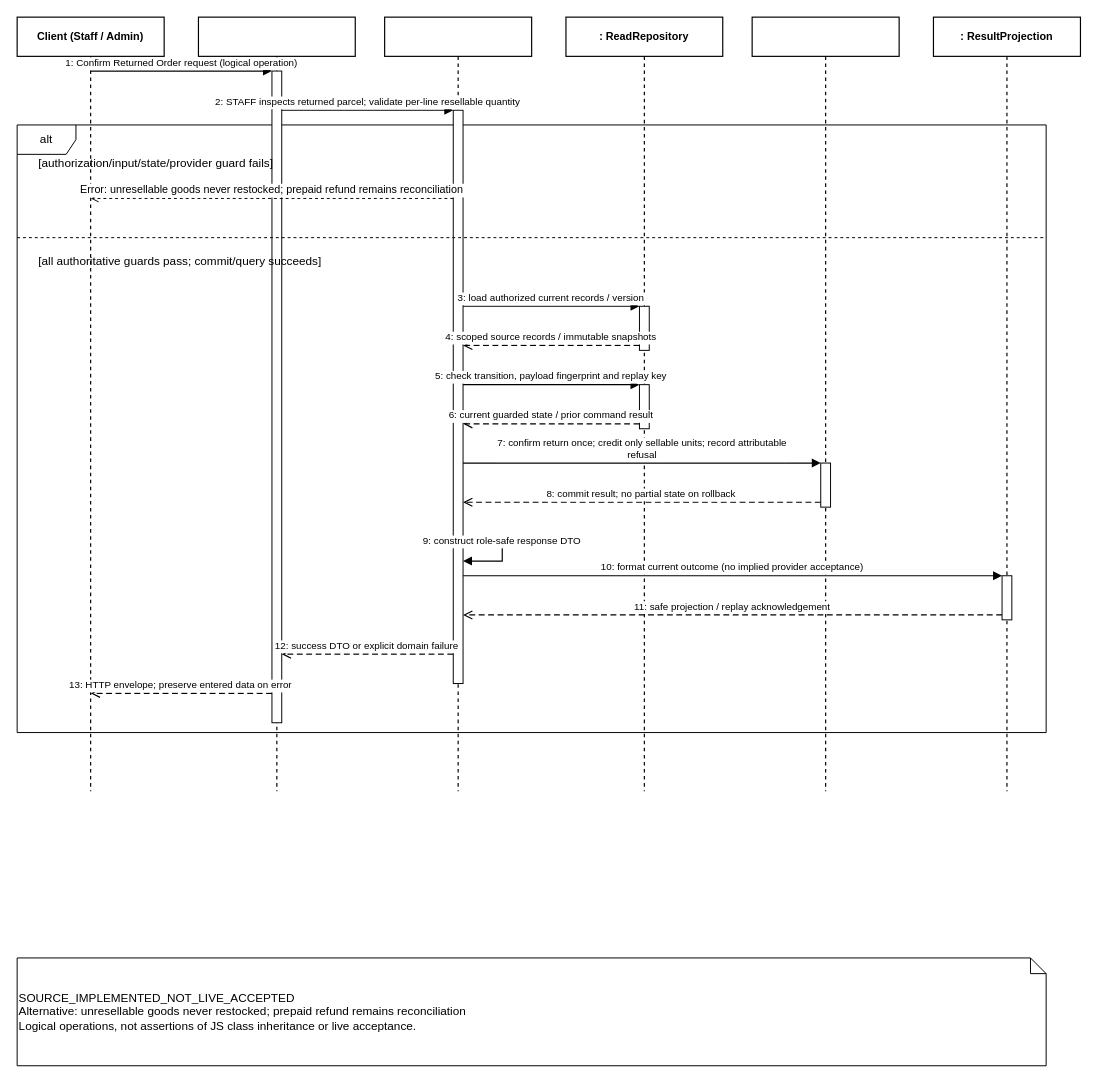
Image size: 1099x1084. Some labels were removed from this diagram. Each missing label, with the box of its shape:
: ProductSalesHttpBoundary: (197, 16, 355, 791)
: ProductSalesService: (384, 16, 532, 791)
: TransactionRepository: (751, 16, 899, 791)
